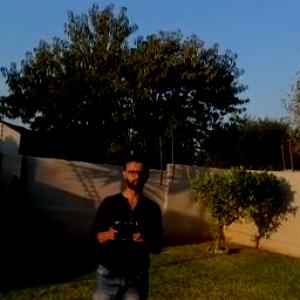follow: (74, 139, 166, 299)
